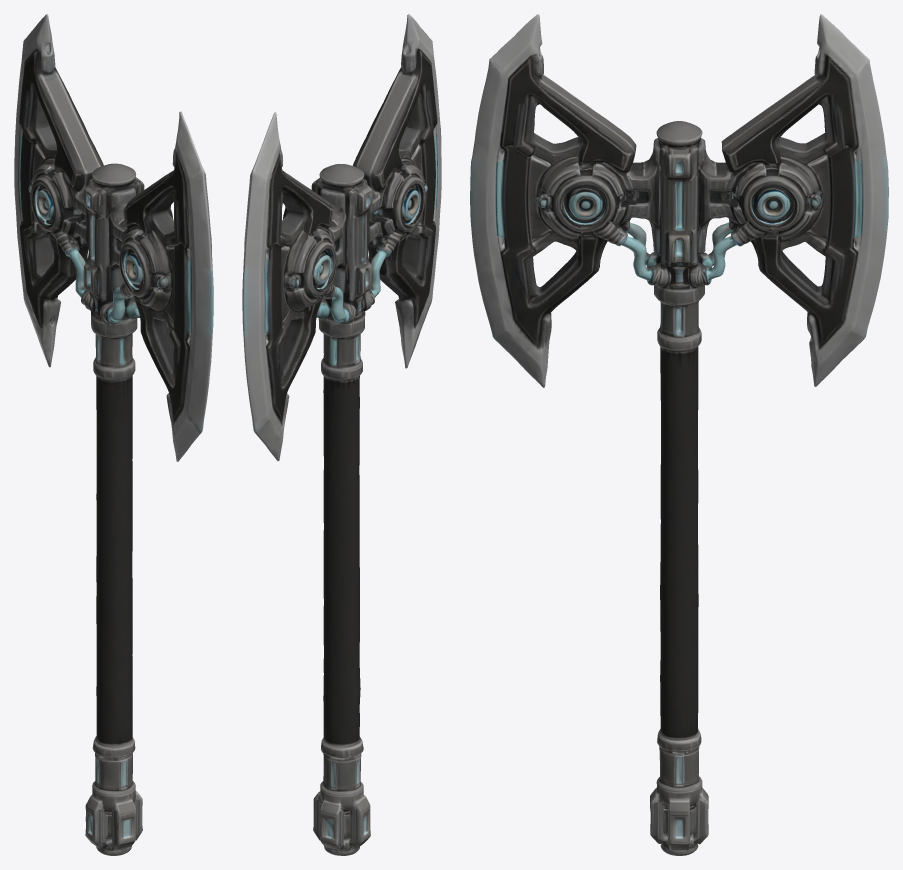
3 renders of one model, left to right at view 1: azimuth 30°, elevation 25°; view 2: azimuth 150°, elevation 25°; view 3: azimuth 270°, elevation 25°, orthographic. The views are drawn at different scales.
Parts seen in each view (by area): view 1: tripo_node_75ebd890-ed3a-404d-bf6b-2441cc835187; view 2: tripo_node_75ebd890-ed3a-404d-bf6b-2441cc835187; view 3: tripo_node_75ebd890-ed3a-404d-bf6b-2441cc835187.
Boxes of the visible parts, x1,y1,x2,y2 form: tripo_node_75ebd890-ed3a-404d-bf6b-2441cc835187: (14, 14, 213, 855); tripo_node_75ebd890-ed3a-404d-bf6b-2441cc835187: (242, 14, 441, 855); tripo_node_75ebd890-ed3a-404d-bf6b-2441cc835187: (470, 14, 888, 855).
Size of the model in its own units: 0.0716 by 1 by 0.4534.
1 material, 1 textured.
